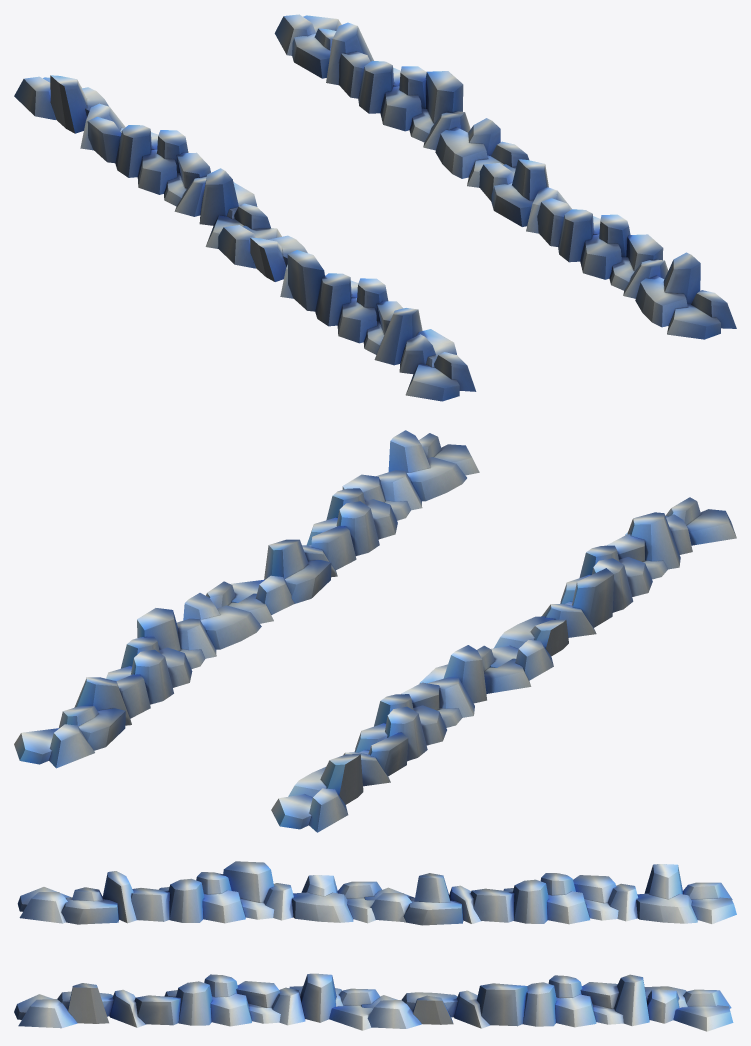
The model's file is river_location_01.FBX.
3 views of the same model, one above another, from view 1: azimuth 30°, elevation 25°; view 2: azimuth 150°, elevation 25°; view 3: azimuth 270°, elevation 25° (orthographic). The views are drawn at different scales.
Parts seen in each view (by area): view 1: Object003; view 2: Object003; view 3: Object003.
Boxes of the visible parts, bbox=[...] form: Object003: bbox=[14, 14, 736, 401]; Object003: bbox=[14, 430, 736, 832]; Object003: bbox=[14, 861, 736, 1031].
Bounding box in the file's own units: 68.19 × 8.75 × 152.
